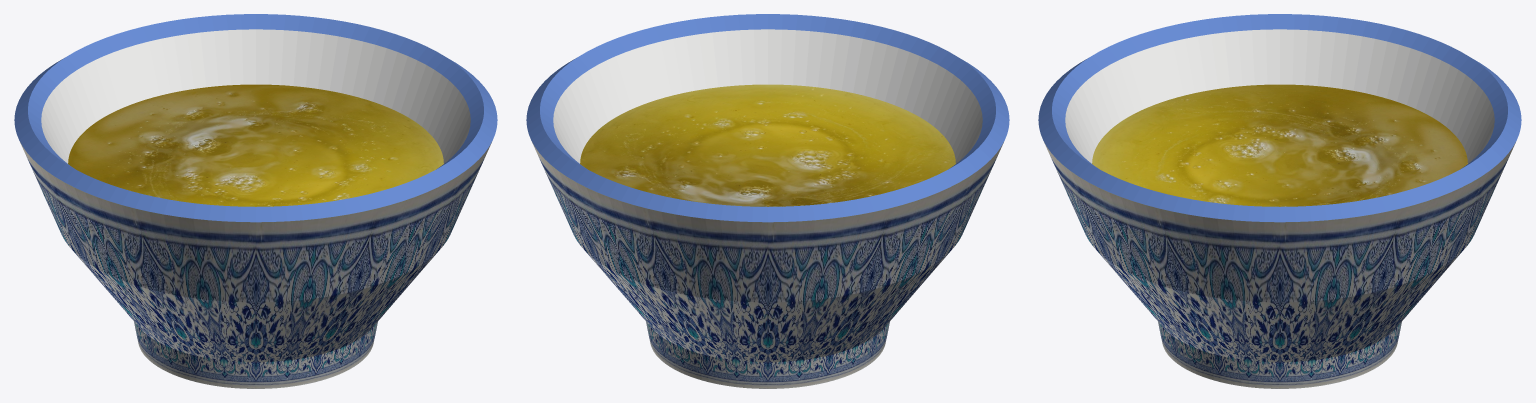
The model's file is choy.glb.
3 views of the same model, side by side, from view 1: azimuth 30°, elevation 25°; view 2: azimuth 150°, elevation 25°; view 3: azimuth 270°, elevation 25° (orthographic).
Parts seen in each view (by area): view 1: choy_0, choy_4, choy_2, choy_1; view 2: choy_0, choy_4, choy_2, choy_1; view 3: choy_0, choy_4, choy_2, choy_1.
Part boxes in pixels (x1,y1,x2,y2): choy_0: (20,142,491,388); choy_4: (68,84,443,206); choy_2: (41,29,470,163); choy_1: (14,14,497,222); choy_0: (532,142,1003,388); choy_4: (580,84,955,206); choy_2: (553,29,982,163); choy_1: (526,14,1009,222); choy_0: (1044,142,1515,388); choy_4: (1092,84,1467,206); choy_2: (1065,29,1494,163); choy_1: (1038,14,1521,222).
Size of the model in its own units: 0.09 by 0.047 by 0.09.
Materials: 5 (2 with a texture image).
